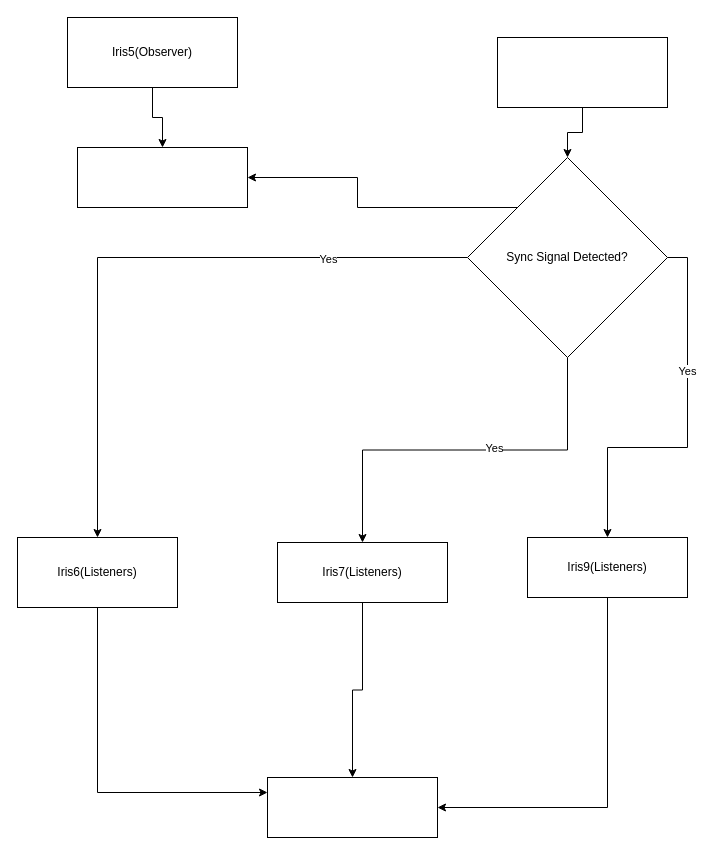
This 713x855 diagram has some shape labels left out. The shapes that lost their labels are listed below. From the top down, each one's centre as x and y in pixels, then its label:
point (582, 72): Iris3(Broadcaster)
point (162, 177): Names Rotates based on sync signal
point (352, 807): We can see each other at each stage of rotation
